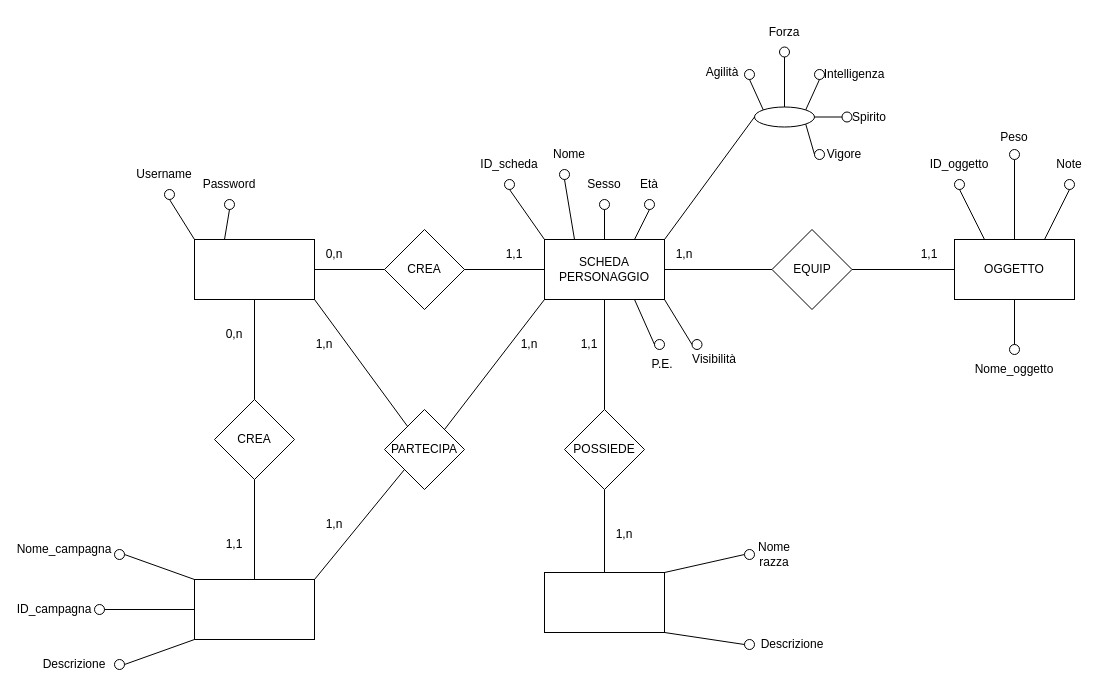
This 1117x697 diagram has some shape labels left out. Each missing label, with the box of its shape:
Attributi: (754, 106, 814, 127)
CAMPAGNA: (194, 578, 314, 640)
RAZZA: (544, 572, 664, 632)
UTENTE: (194, 238, 314, 300)
